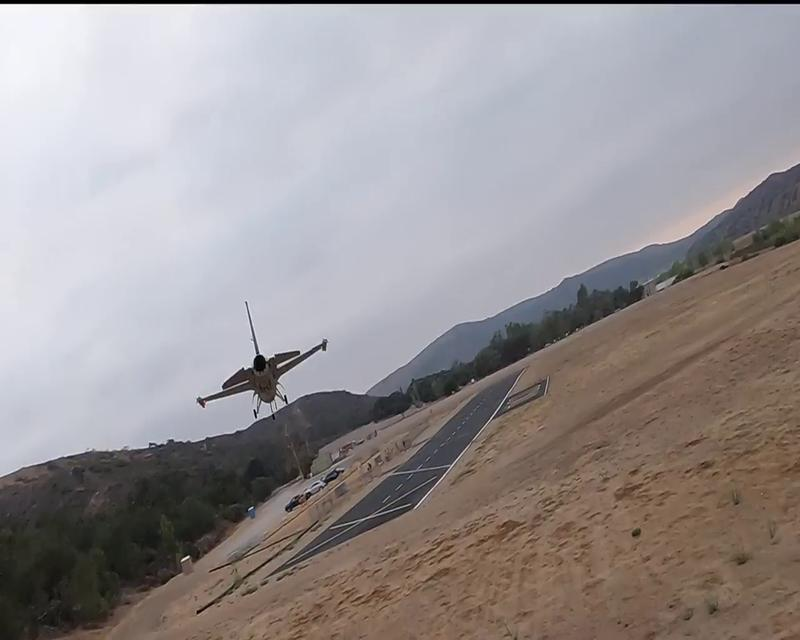UAV: (197, 300, 329, 421)
